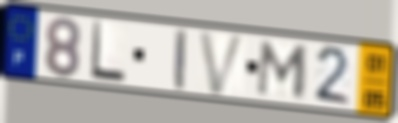2: (311, 44, 354, 111)
8: (43, 14, 83, 80)
I: (173, 26, 189, 93)
L: (88, 18, 129, 86)
M: (254, 39, 312, 101)
V: (196, 29, 249, 97)
